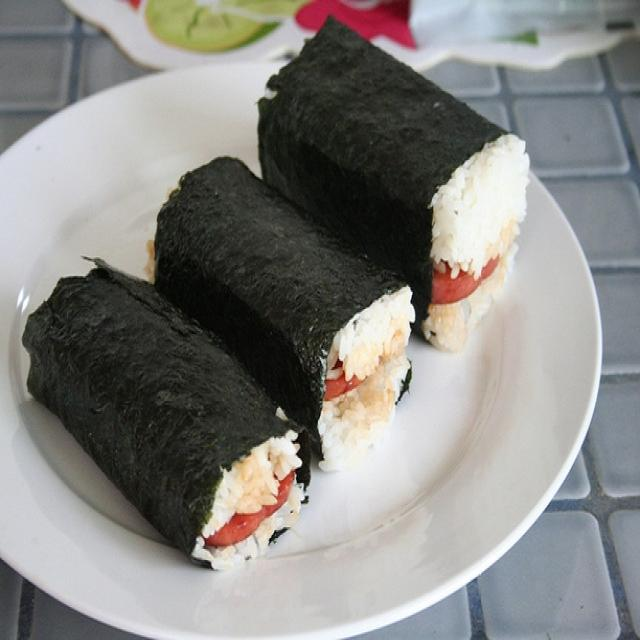寿司卷物: (7, 17, 597, 621)
